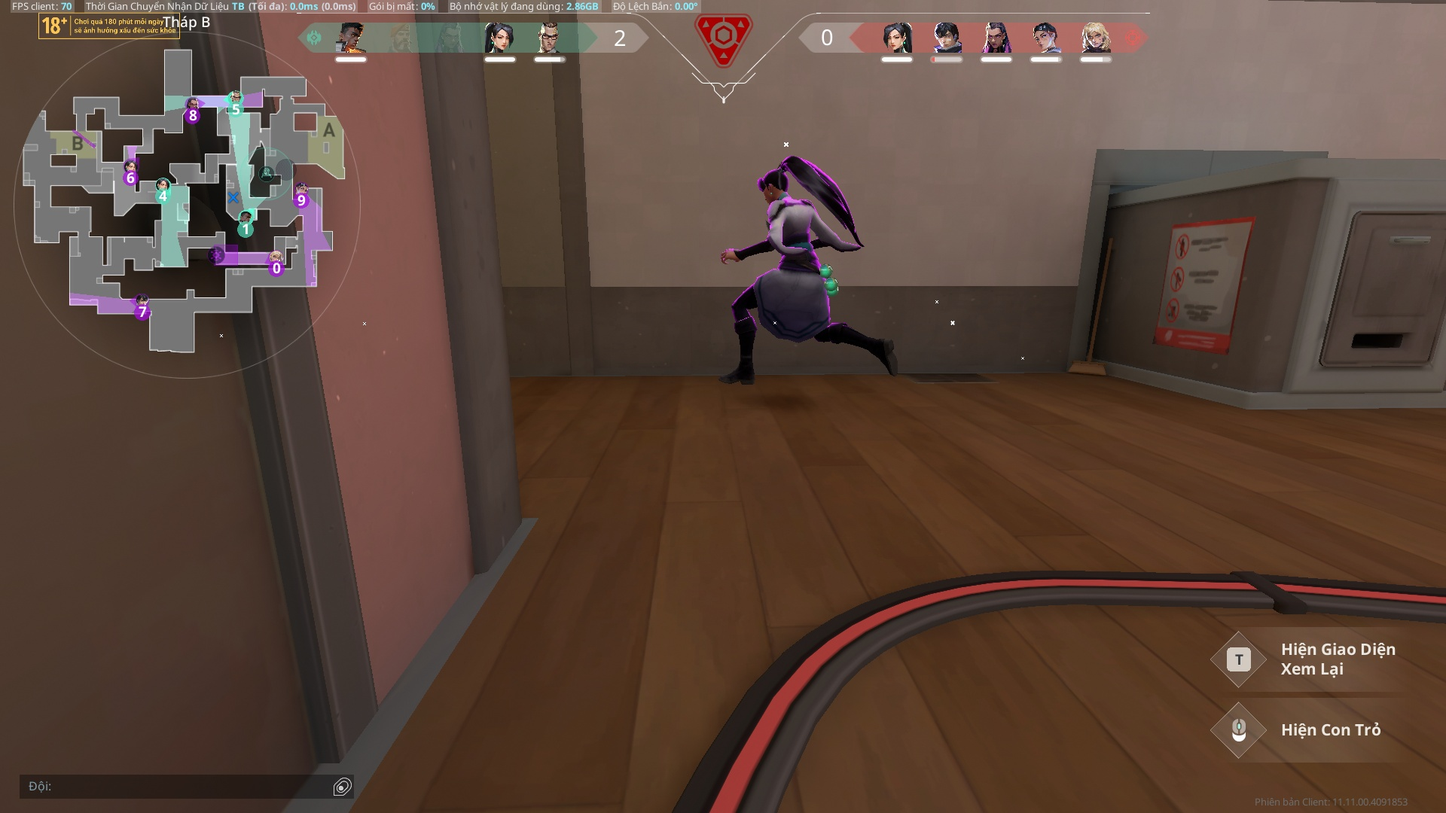body: (757, 196, 828, 278)
head: (755, 167, 792, 200)
